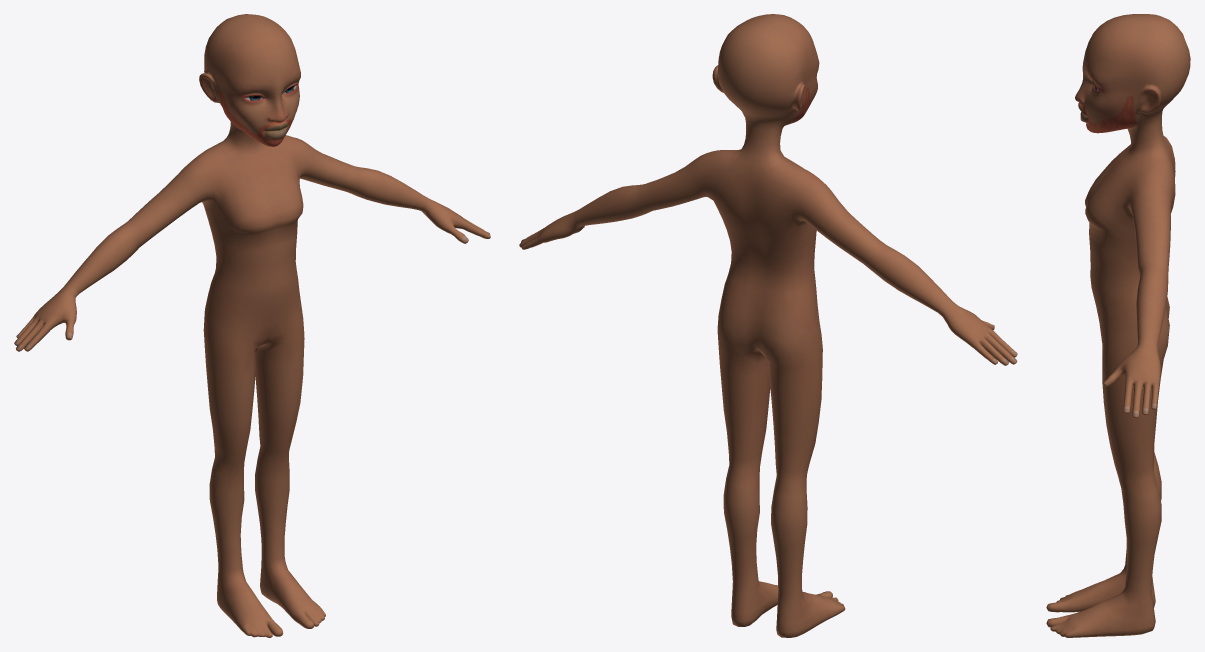
Rendered from frame_0031.glb.
3 views of the same model, side by side, from view 1: azimuth 30°, elevation 25°; view 2: azimuth 150°, elevation 25°; view 3: azimuth 270°, elevation 25° (orthographic). The views are drawn at different scales.
Visible parts, largest first — view 1: frame_0031_head_geo; view 2: frame_0031_head_geo; view 3: frame_0031_head_geo.
Part boxes in pixels (x1,y1,x2,y2): frame_0031_head_geo: (14,14,490,637); frame_0031_head_geo: (519,14,1017,637); frame_0031_head_geo: (1046,14,1190,637).
Bounding box in the file's own units: 1.28 × 1.5 × 0.3253.
Materials: 3 (3 with a texture image).
